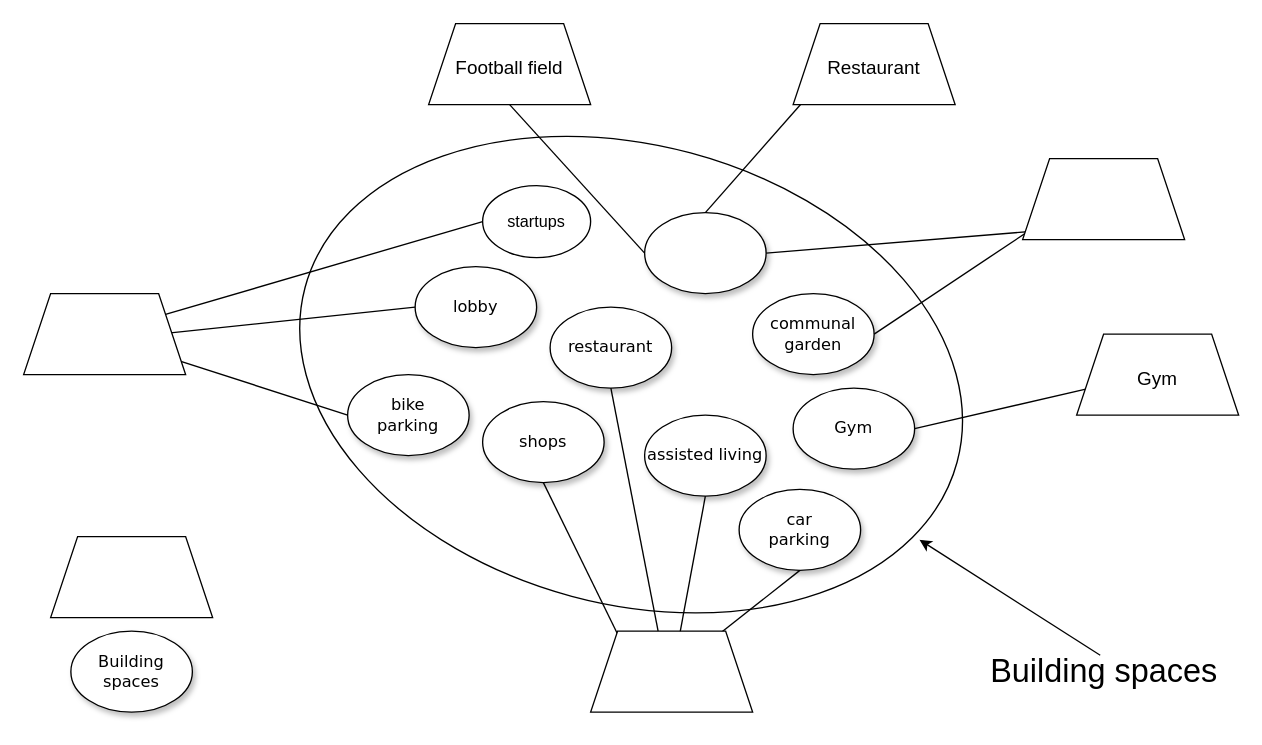
Image size: 1262x745. Some labels were removed from this diagram. Here are the shapes that lost their labels. From the top down, the centre of each, then its label:
At (x=1103, y=198): "Garden".
At (x=706, y=254): "community center".
At (x=104, y=333): "Main cycle path".
At (x=131, y=576): "External context".
At (x=671, y=671): "Main road".
